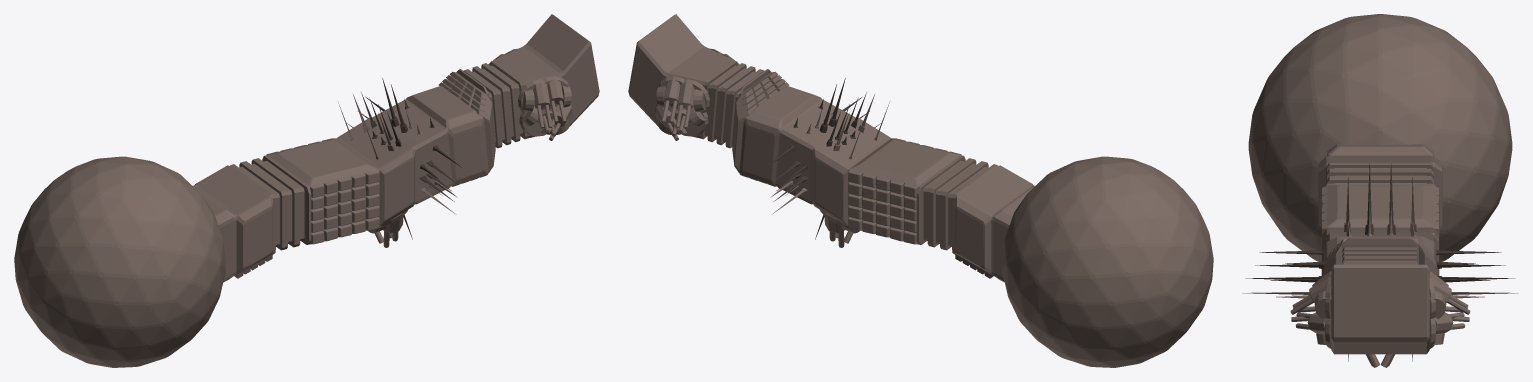
The model's file is bvais5.fbx.
3 renders of one model, left to right at view 1: azimuth 30°, elevation 25°; view 2: azimuth 150°, elevation 25°; view 3: azimuth 270°, elevation 25°, orthographic. The views are drawn at different scales.
Parts seen in each view (by area): view 1: Spaceship; view 2: Spaceship; view 3: Spaceship.
Boxes of the visible parts, x1=… form: Spaceship: x1=14, y1=14, x2=599, y2=367; Spaceship: x1=628, y1=14, x2=1213, y2=367; Spaceship: x1=1242, y1=14, x2=1518, y2=367.
Size of the model in its own units: 1150 by 440 by 399.
